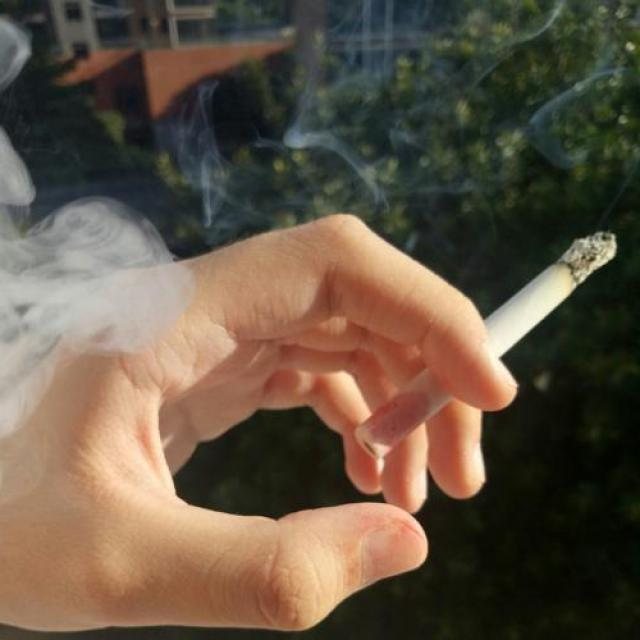smoking: (354, 224, 620, 458)
